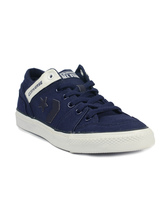shoes: (12, 64, 155, 158)
